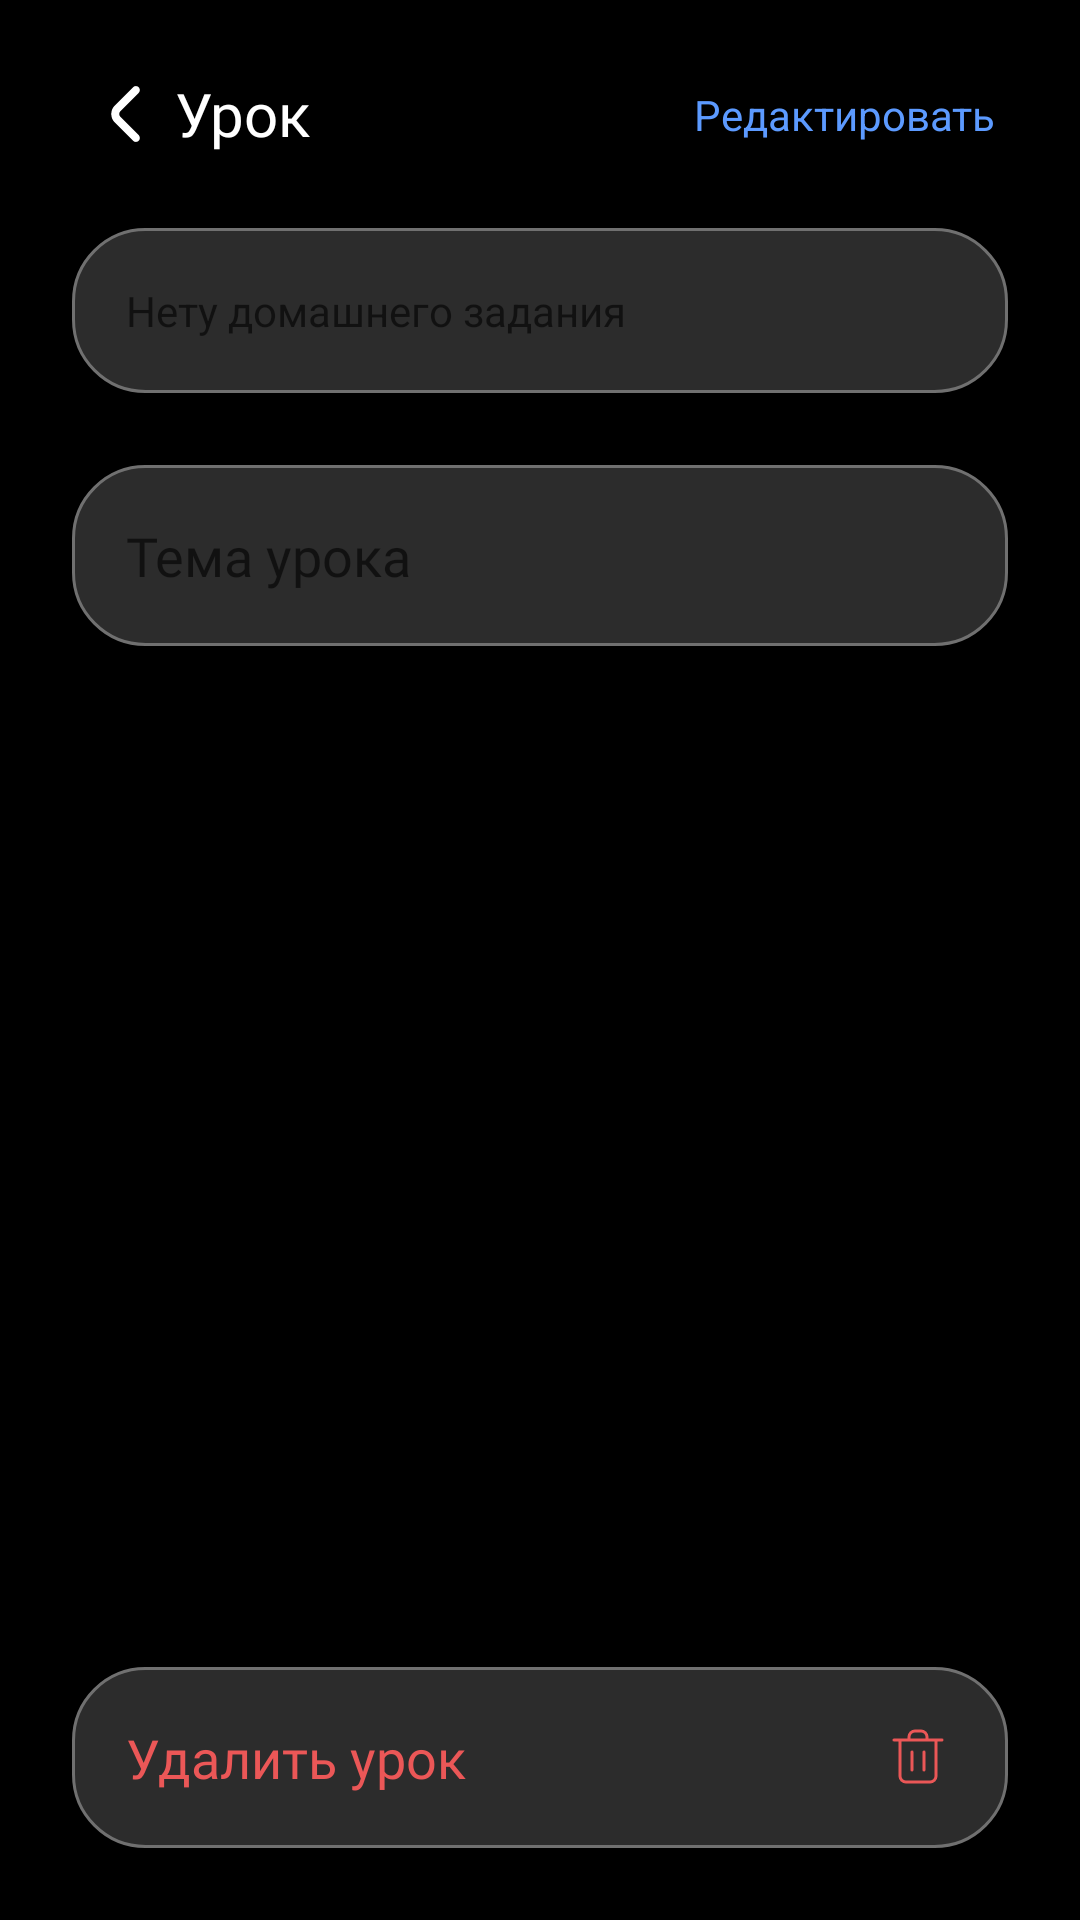

Where icons sit on this 1080px×1920px app screen, as Rect(x1, y1, x2, y2):
trash: Rect(892, 1729, 944, 1784)
